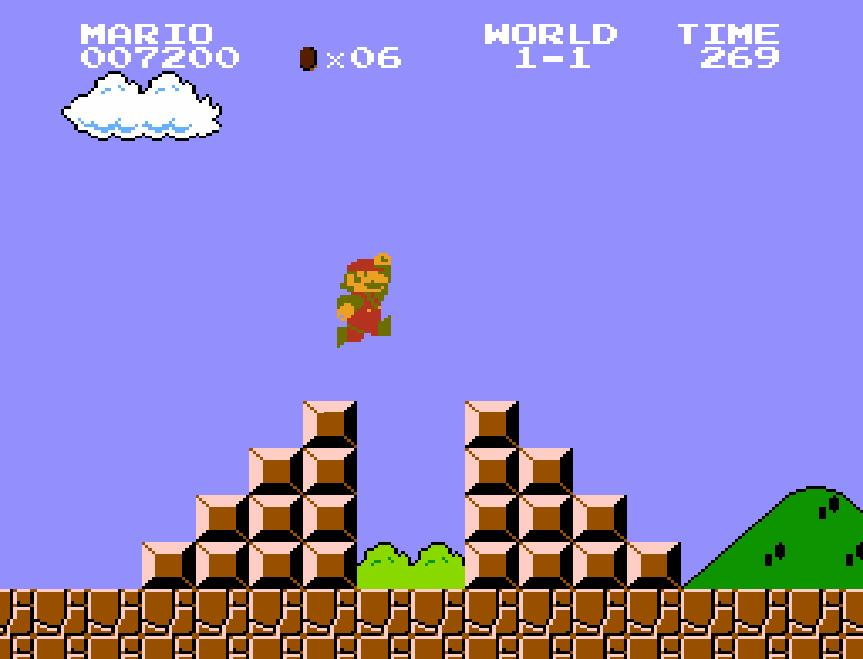big_mario: (335, 251, 393, 349)
